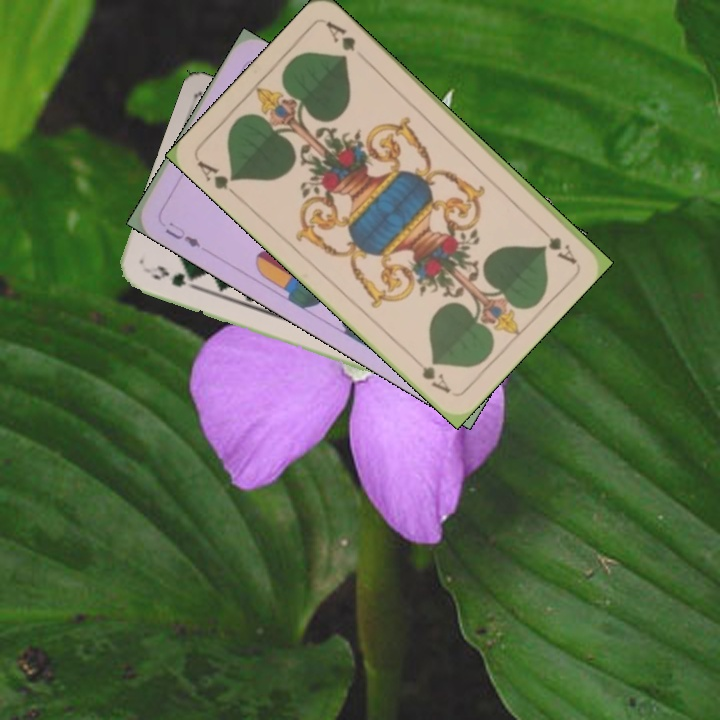EU: (161, 218, 203, 250)
G9: (147, 261, 199, 292)
GA: (532, 219, 579, 267), (192, 156, 242, 201)
